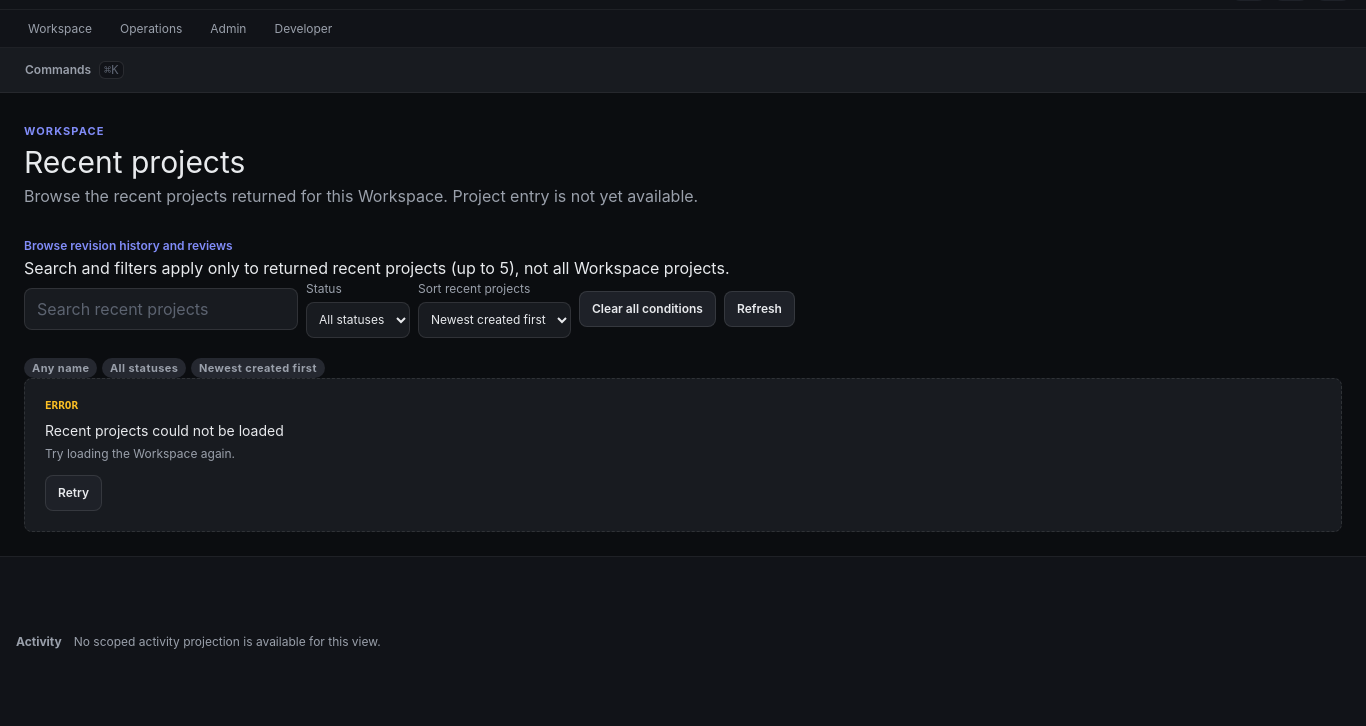
Test: authenticated recent project browsing route › shows initial failure and retry, then refresh failure without losing the last view
Click the button "Retry" at (74, 493), box [45,475,102,511]
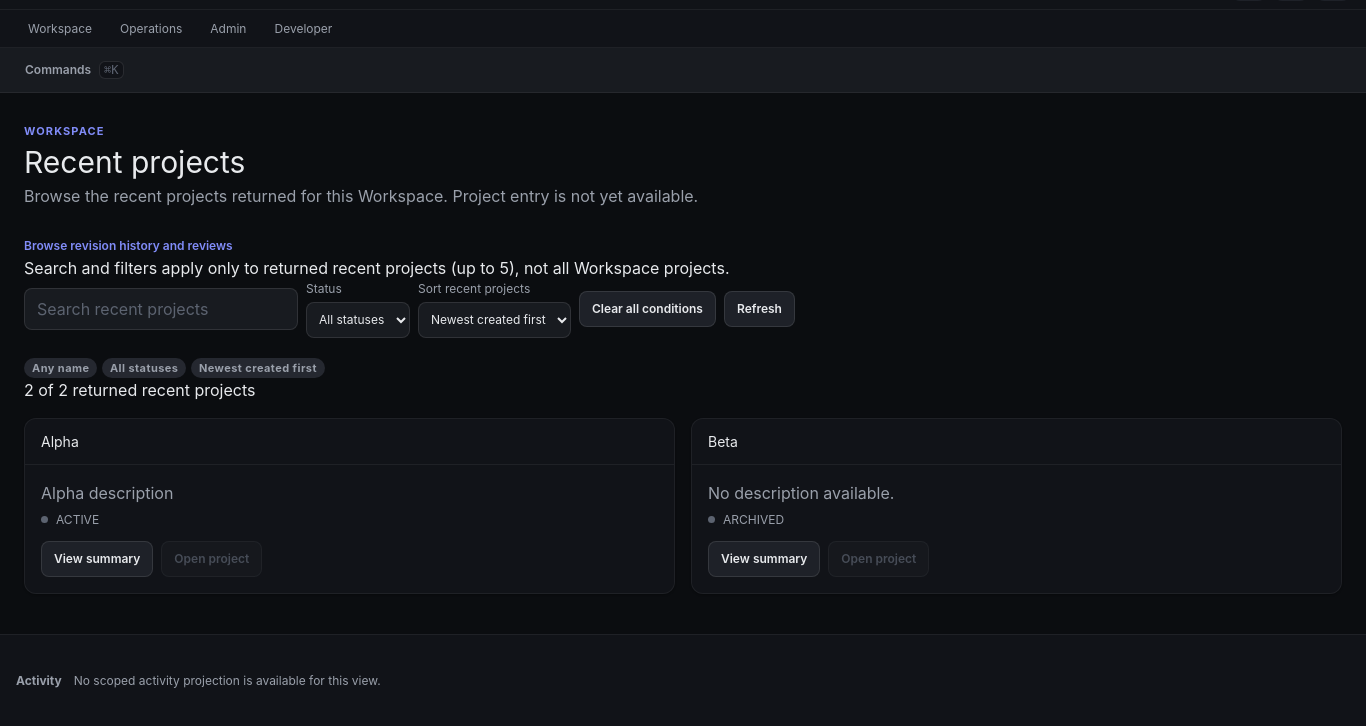
Check: the button with aria-label "Summary: Alpha" is shown, box [41,541,153,577]
Click the button "Refresh" at (760, 308), box [724,290,795,326]
(page scrolled)
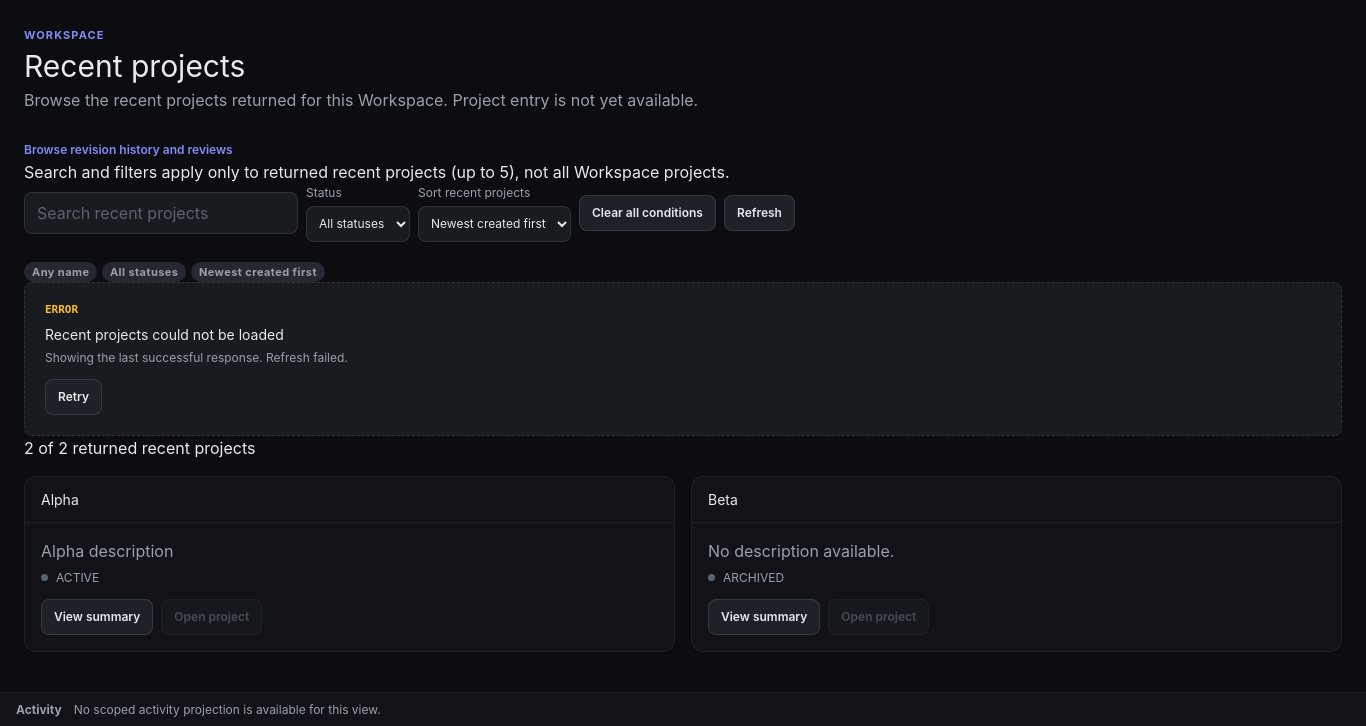
Check: the button with aria-label "Summary: Alpha" is shown, box [41,599,153,635]
Check: the text "Showing the last successful response. Refresh failed." is shown, box [45,349,348,367]
